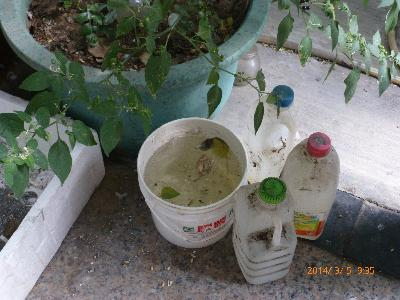bottle: (279, 131, 340, 242), (235, 177, 297, 285), (251, 84, 297, 183)
bucket: (135, 116, 249, 250)
